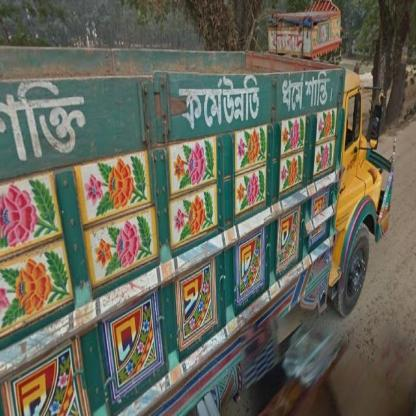truck: (1, 1, 392, 413)
